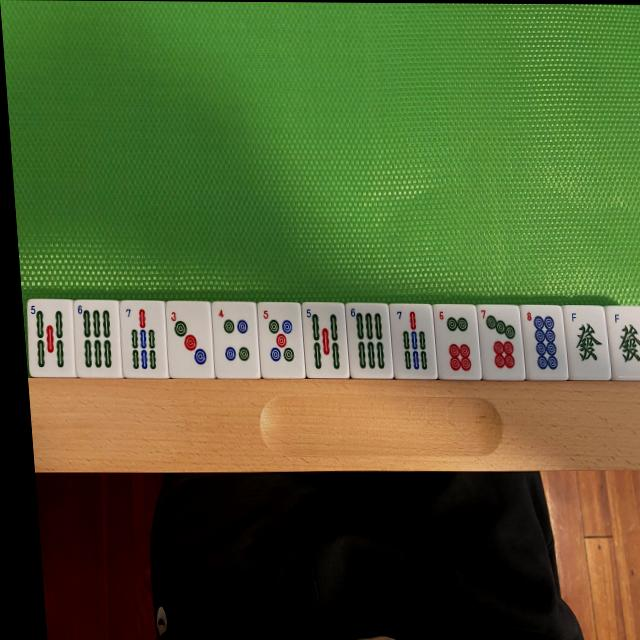fa: (567, 310, 606, 374), (607, 309, 640, 378)
s5: (28, 302, 72, 376), (302, 306, 348, 376)
s6: (74, 304, 120, 374), (349, 306, 391, 375)
s7: (120, 306, 165, 375), (391, 307, 435, 376)
t3: (166, 306, 213, 374)
t4: (214, 305, 257, 374)
t5: (259, 306, 305, 374)
t6: (436, 309, 479, 376)
t7: (478, 306, 522, 375)
t8: (524, 309, 561, 374)
